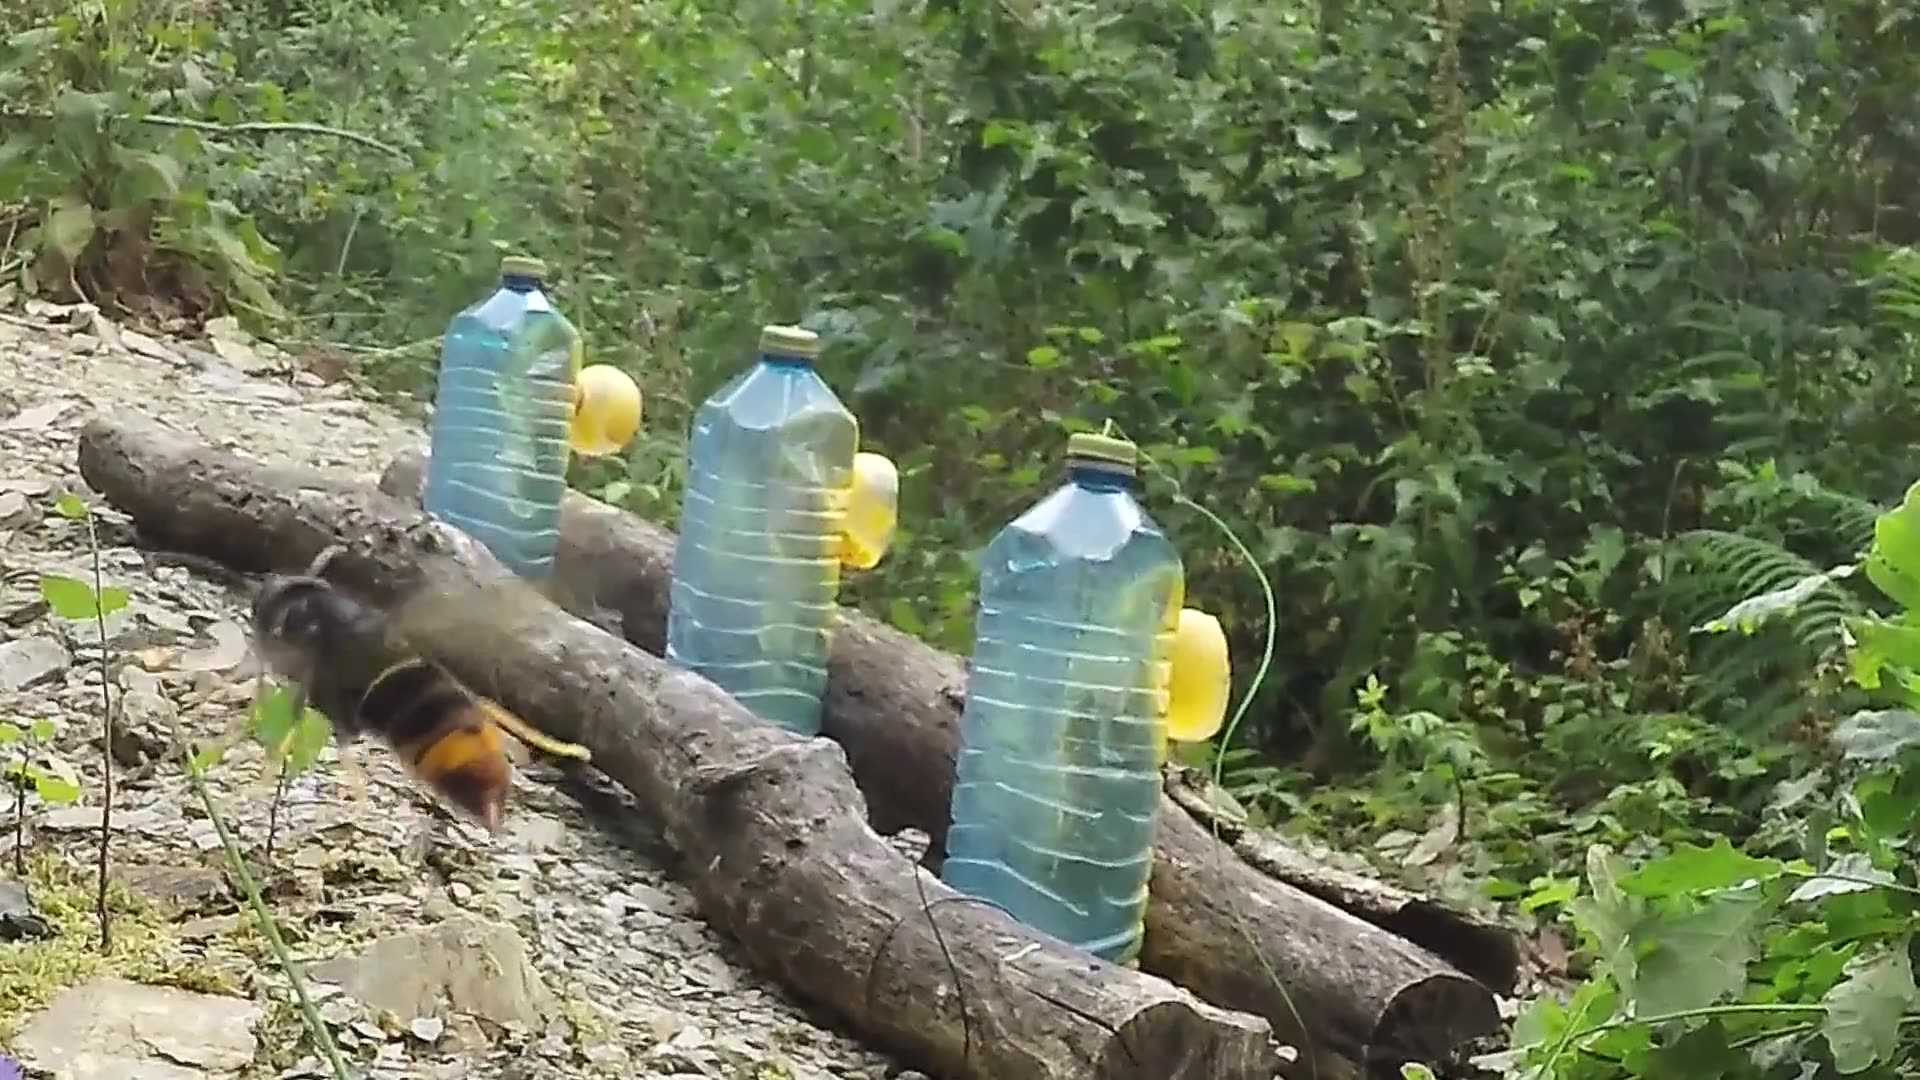hornet: (243, 564, 531, 836)
